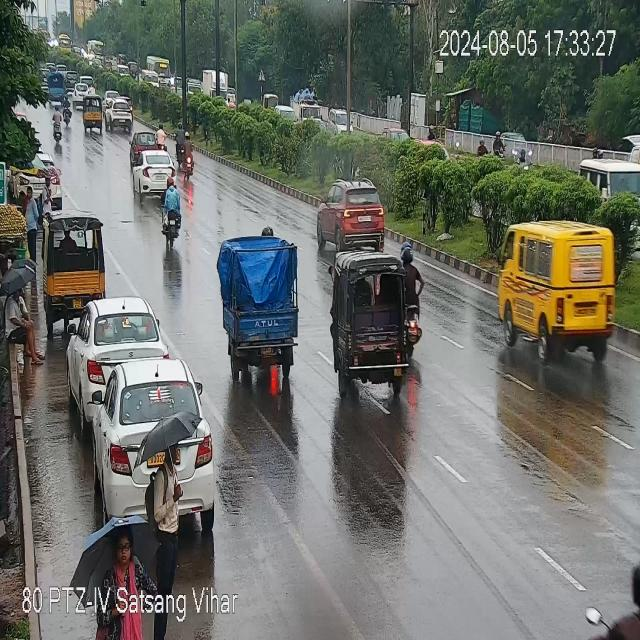2-wheelers: (402, 245, 424, 352), (156, 178, 183, 247), (182, 130, 193, 178), (492, 129, 506, 159), (476, 134, 488, 168), (52, 106, 62, 144), (176, 124, 184, 164), (62, 95, 71, 126), (157, 122, 167, 146), (518, 146, 528, 161)
auto: (492, 215, 617, 362), (216, 230, 306, 372), (329, 254, 413, 402), (42, 211, 108, 315), (82, 96, 103, 135)
bus: (146, 54, 173, 89)
car: (90, 357, 210, 483), (70, 296, 162, 405), (318, 178, 391, 253), (579, 154, 636, 201), (135, 152, 179, 194), (129, 130, 155, 166), (106, 97, 136, 127)
pedestrian: (149, 434, 184, 589), (0, 247, 33, 353), (100, 529, 146, 589), (23, 184, 40, 259), (41, 176, 55, 253), (50, 72, 64, 104)
